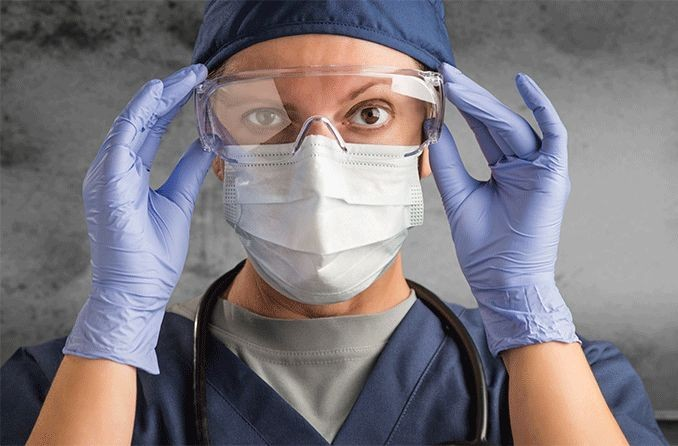Gloves: (59, 62, 216, 376), (421, 62, 583, 357)
Goggles: (194, 63, 449, 159)
with_mask: (225, 99, 428, 308)
